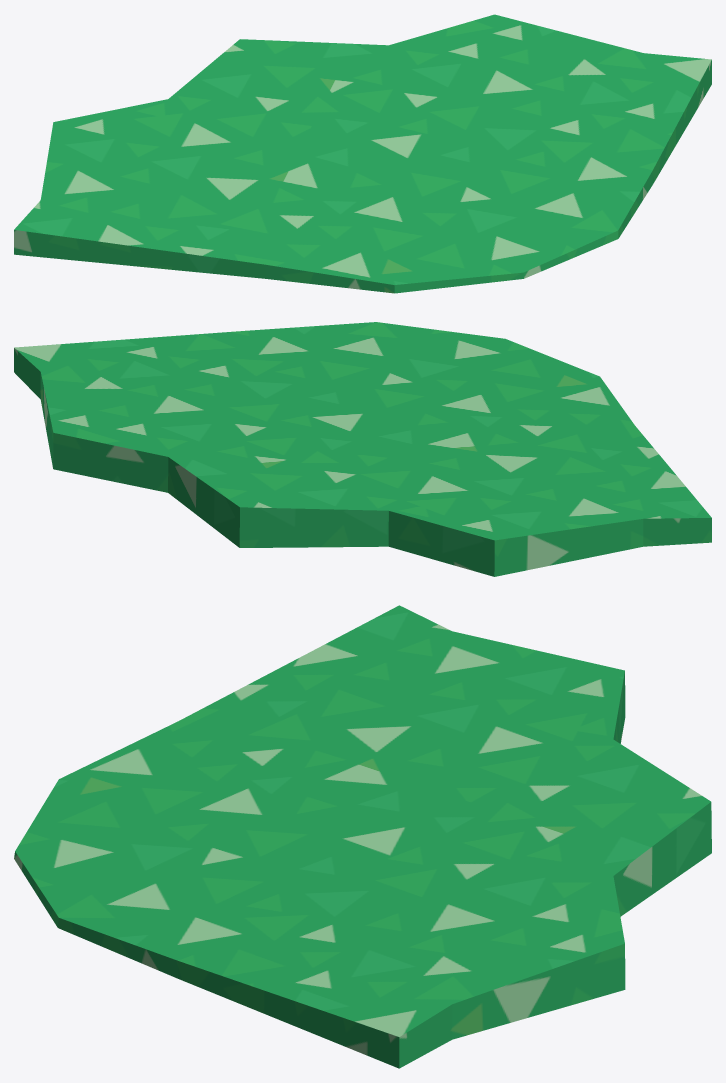
The model's file is herb_yarrow.glb.
3 views of the same model, one above another, from view 1: azimuth 30°, elevation 25°; view 2: azimuth 150°, elevation 25°; view 3: azimuth 270°, elevation 25° (orthographic). The views are drawn at different scales.
Visible parts, largest first — view 1: herb_yarrow; view 2: herb_yarrow; view 3: herb_yarrow.
Part boxes in pixels (x1=…): herb_yarrow: x1=14, y1=14, x2=711, y2=293; herb_yarrow: x1=14, y1=322, x2=711, y2=576; herb_yarrow: x1=14, y1=605, x2=711, y2=1068.
Bounding box in the file's own units: 0.4876 × 0.0271 × 0.333.
1 material, 1 textured.
